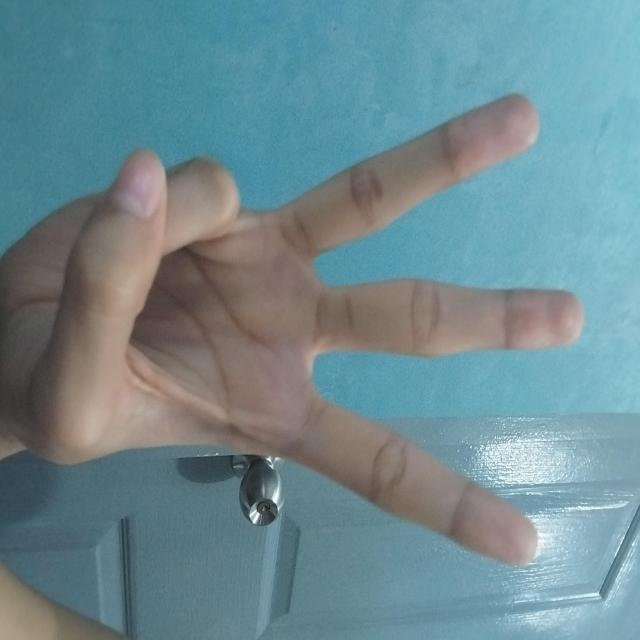W: (91, 57, 564, 640)
